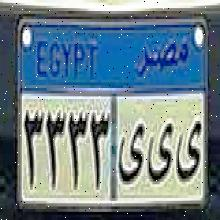3: (89, 105, 111, 199), (67, 103, 89, 193), (44, 106, 66, 196), (22, 104, 44, 189)
yaa: (118, 120, 146, 188), (176, 122, 202, 190), (147, 119, 173, 187)
